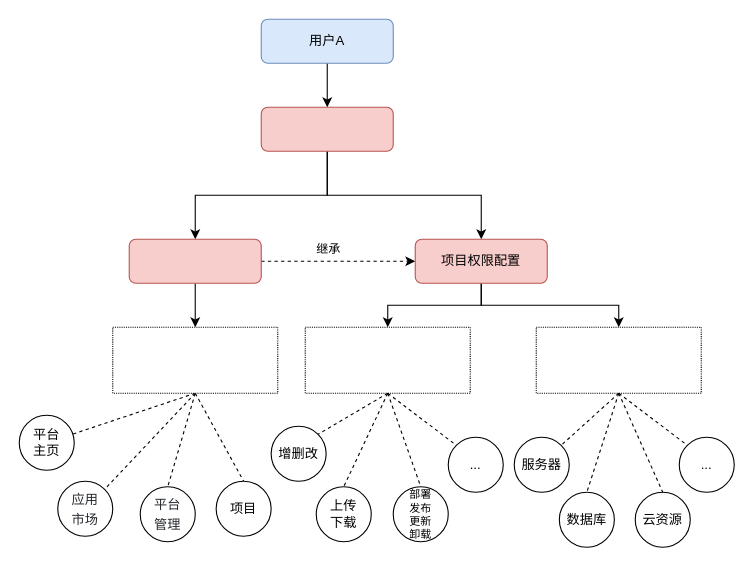
This 754x567 diagram has some shape labels left out. The shapes that lost their labels are listed below. From the top down, each one's centre as x and y in pixels, then its label:
the point at 326,128: 平台角色A
the point at 194,260: 平台权限配置
the point at 195,359: 平台功能权限： 哪些能用和不能用
the point at 387,359: 项目功能权限： 哪些能用和不能用
the point at 618,359: 项目资源权限： 哪些可见和不可见
